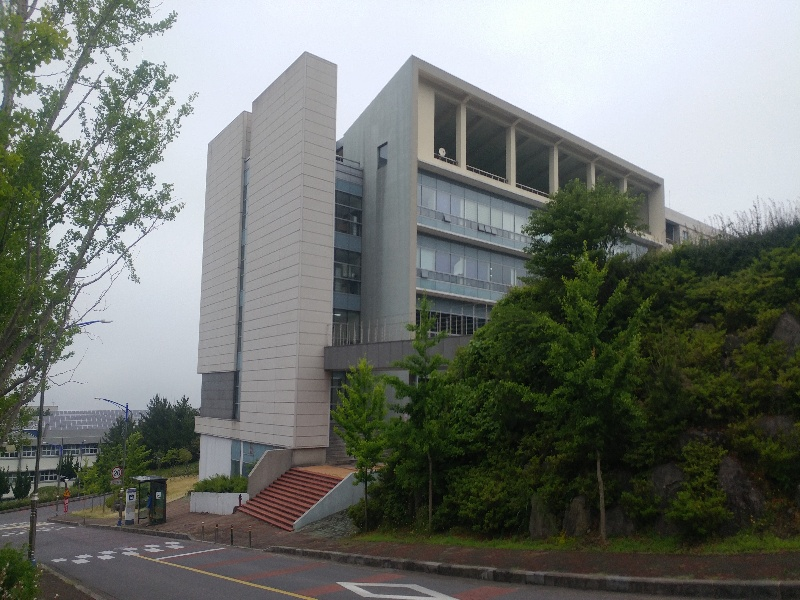Cultural lecture hall: (8, 424, 100, 492)
Engineering College Building 4: (204, 64, 381, 519)
